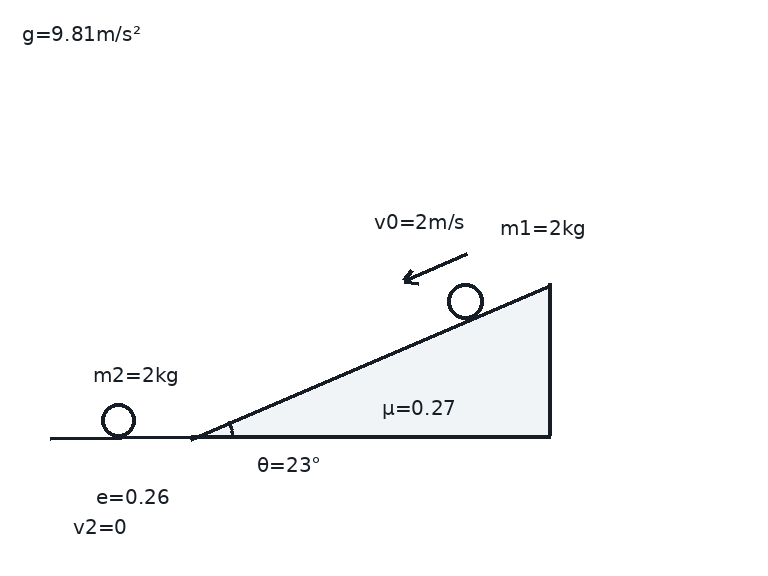ball: (445, 281, 485, 321), (99, 401, 137, 439)
ramp: (190, 283, 551, 439)
